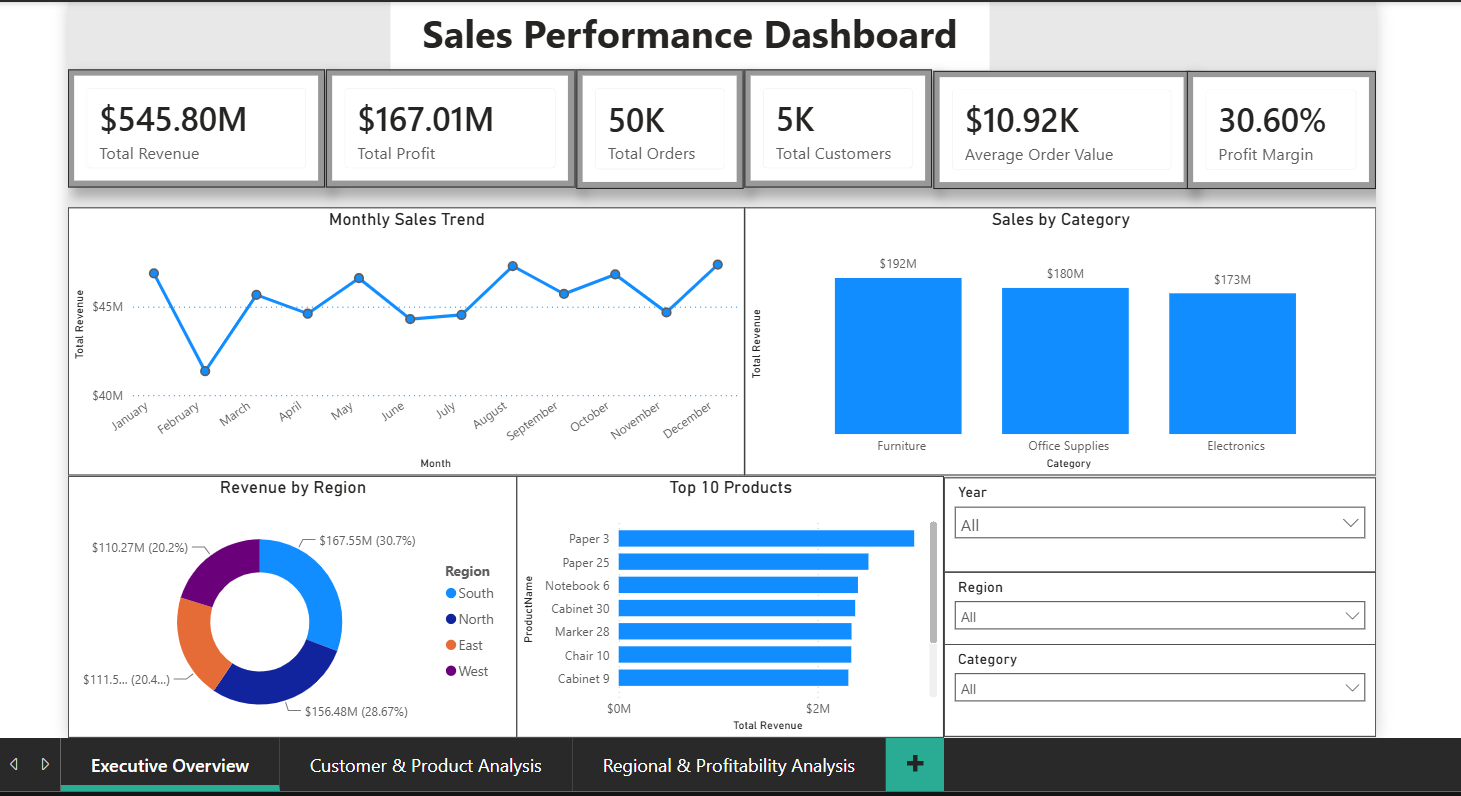

What the dashboard file says about the page in this screenshot:
{"tool":"powerbi","page":{"name":"Executive Overview","canvas":[1280,720],"ordinal":0},"visuals":[{"type":"textbox","box":[315,0,586,66.6],"z":1000},{"type":"cardVisual","fields":{"Data":["sales.Total Revenue"]},"box":[0,66.6,251.4,115.1],"z":2000},{"type":"cardVisual","fields":{"Data":["sales.Total Profit"]},"box":[252.9,66.6,243.8,115.1],"z":3000},{"type":"cardVisual","fields":{"Data":["sales.Total Orders"]},"box":[498.2,66.6,163.5,116.6],"z":4000},{"type":"cardVisual","fields":{"Data":["sales.Total Customers"]},"box":[661.7,66.6,183.2,115.1],"z":5000},{"type":"cardVisual","fields":{"Data":["sales.Average Order Value"]},"box":[846.4,68.1,251.4,115.1],"z":6000},{"type":"cardVisual","fields":{"Data":["sales.Profit Margin"]},"box":[1094.8,68.1,184.7,115.1],"z":7000},{"type":"clusteredColumnChart","title":"Sales by Category","fields":{"Y":["sales.Total Revenue"],"Category":["products.Category"]},"box":[661.7,201.4,617.8,262],"z":8000},{"type":"lineChart","title":"Monthly Sales Trend","fields":{"Y":["sales.Total Revenue"],"Category":["sales.OrderDate.Variation.Date Hierarchy.Year","sales.OrderDate.Variation.Date Hierarchy.Quarter","sales.OrderDate.Variation.Date Hierarchy.Month","sales.OrderDate.Variation.Date Hierarchy.Day"]},"box":[0,201.4,661.7,262],"z":9000},{"type":"donutChart","title":"Revenue by Region","fields":{"Category":["customers.Region"],"Y":["sales.Total Revenue"]},"box":[0,463.3,439.1,255.9],"z":10000},{"type":"barChart","title":"Top 10 Products","fields":{"Category":["products.ProductName"],"Y":["sales.Total Revenue"]},"box":[439.1,463.3,417.9,255.9],"z":11000},{"type":"slicer","fields":{"Values":["sales.OrderDate.Variation.Date Hierarchy.Year"]},"box":[857,464.9,422.5,92.4],"z":12000},{"type":"slicer","fields":{"Values":["customers.Region"]},"box":[857,557.2,422.5,71.2],"z":13000},{"type":"slicer","fields":{"Values":["products.Category"]},"box":[857,628.4,422.5,90.9],"z":14000}]}

Visuals, with their boxes on the page's 1280x720 design canvas (x1, y1, x2, y2). These are canvas units, not pixel positions in the 1461x796 screenshot, which may show the page scaled, cropped or inside an application window:
textbox: bbox=[315, 0, 901, 67]
cardVisual - sales.Total Revenue: bbox=[0, 67, 251, 182]
cardVisual - sales.Total Profit: bbox=[253, 67, 497, 182]
cardVisual - sales.Total Orders: bbox=[498, 67, 662, 183]
cardVisual - sales.Total Customers: bbox=[662, 67, 845, 182]
cardVisual - sales.Average Order Value: bbox=[846, 68, 1098, 183]
cardVisual - sales.Profit Margin: bbox=[1095, 68, 1280, 183]
"Sales by Category" clusteredColumnChart: bbox=[662, 201, 1280, 463]
"Monthly Sales Trend" lineChart: bbox=[0, 201, 662, 463]
"Revenue by Region" donutChart: bbox=[0, 463, 439, 719]
"Top 10 Products" barChart: bbox=[439, 463, 857, 719]
slicer - sales.OrderDate.Variation.Date Hierarchy.Year: bbox=[857, 465, 1280, 557]
slicer - customers.Region: bbox=[857, 557, 1280, 628]
slicer - products.Category: bbox=[857, 628, 1280, 719]
